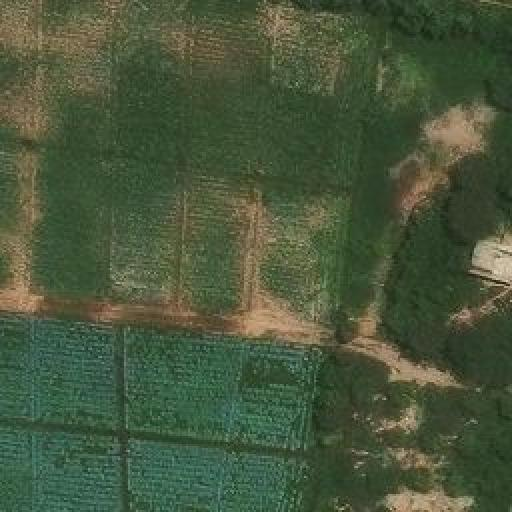manzanas: (465, 233, 510, 288)
